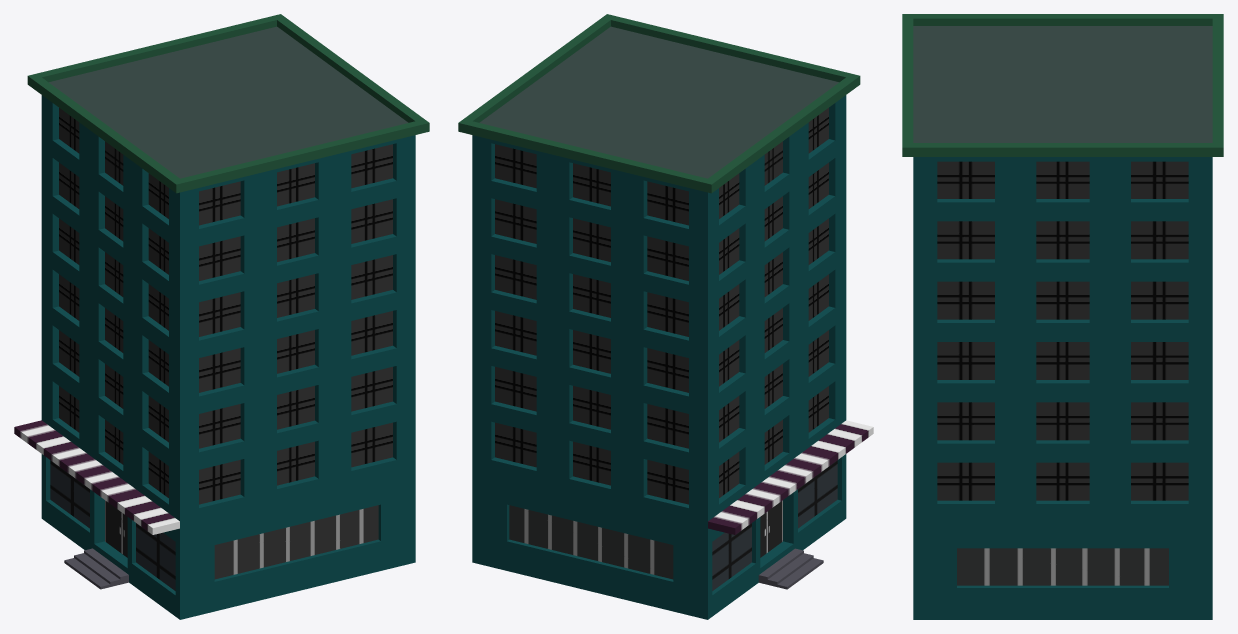
File: building19c.FBX
3 renders of one model, left to right at view 1: azimuth 30°, elevation 25°; view 2: azimuth 150°, elevation 25°; view 3: azimuth 270°, elevation 25°, orthographic. The views are drawn at different scales.
Visible parts, largest first — view 1: building19c; view 2: building19c; view 3: building19c.
Part boxes in pixels (box(x1,y1,x2,y2)): building19c: box(14, 14, 429, 619); building19c: box(458, 14, 873, 619); building19c: box(902, 14, 1223, 619).
Bounding box in the file's own units: 23.1 × 35.71 × 21.81.
